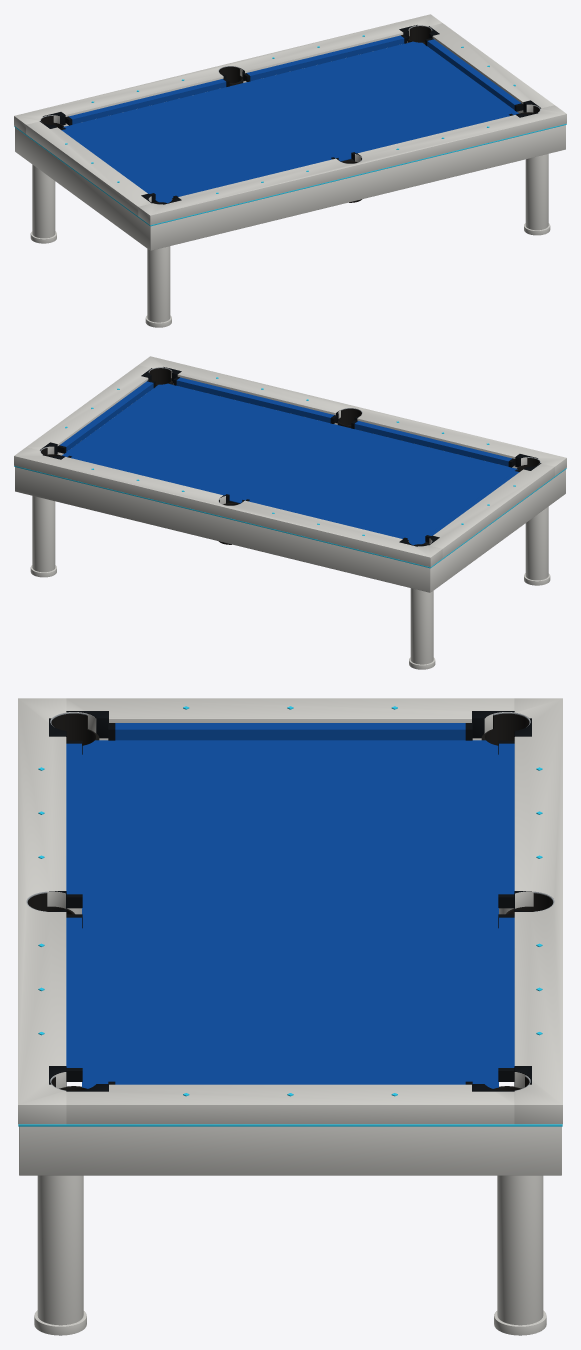
File: table_d.glb
The picture shows the model from 3 angles, top to bottom: view 1: azimuth 30°, elevation 25°; view 2: azimuth 150°, elevation 25°; view 3: azimuth 270°, elevation 25°; orthographic projection. The views are drawn at different scales.
Parts seen in each view (by area): view 1: SM_Cloth, SM_Rails, SM_Apron, SM_Legs, SM_Cushions, SM_PocketWells, SM_ApronReveal, SM_PocketJaws, SM_Facings; view 2: SM_Cloth, SM_Rails, SM_Apron, SM_Legs, SM_Cushions, SM_PocketWells, SM_ApronReveal, SM_PocketJaws, SM_Facings; view 3: SM_Cloth, SM_Rails, SM_Apron, SM_Cushions, SM_Legs, SM_PocketWells, SM_PocketJaws, SM_Facings, SM_ApronReveal.
Boxes of the visible parts, bbox=[...] form: SM_Cloth: bbox=[63, 41, 518, 203]; SM_Rails: bbox=[14, 14, 566, 225]; SM_Apron: bbox=[15, 41, 565, 250]; SM_Legs: bbox=[30, 154, 550, 327]; SM_Cushions: bbox=[61, 35, 520, 196]; SM_PocketWells: bbox=[41, 26, 539, 204]; SM_ApronReveal: bbox=[14, 124, 566, 226]; SM_PocketJaws: bbox=[39, 25, 540, 204]; SM_Facings: bbox=[60, 34, 523, 200]; SM_Cloth: bbox=[62, 383, 517, 545]; SM_Rails: bbox=[14, 356, 566, 567]; SM_Apron: bbox=[15, 383, 565, 592]; SM_Legs: bbox=[30, 496, 550, 669]; SM_Cushions: bbox=[60, 377, 519, 538]; SM_PocketWells: bbox=[41, 368, 539, 546]; SM_ApronReveal: bbox=[14, 466, 566, 568]; SM_PocketJaws: bbox=[40, 367, 541, 546]; SM_Facings: bbox=[57, 376, 520, 542]; SM_Cloth: bbox=[82, 740, 498, 1088]; SM_Rails: bbox=[18, 698, 562, 1124]; SM_Apron: bbox=[19, 738, 561, 1175]; SM_Cushions: bbox=[66, 723, 514, 1084]; SM_Legs: bbox=[34, 908, 546, 1335]; SM_PocketWells: bbox=[27, 713, 553, 1090]; SM_PocketJaws: bbox=[49, 711, 531, 1091]; SM_Facings: bbox=[66, 723, 514, 1084]; SM_ApronReveal: bbox=[18, 1124, 562, 1126].
Bounding box in the file's own units: 2.93 × 0.803 × 1.66.
